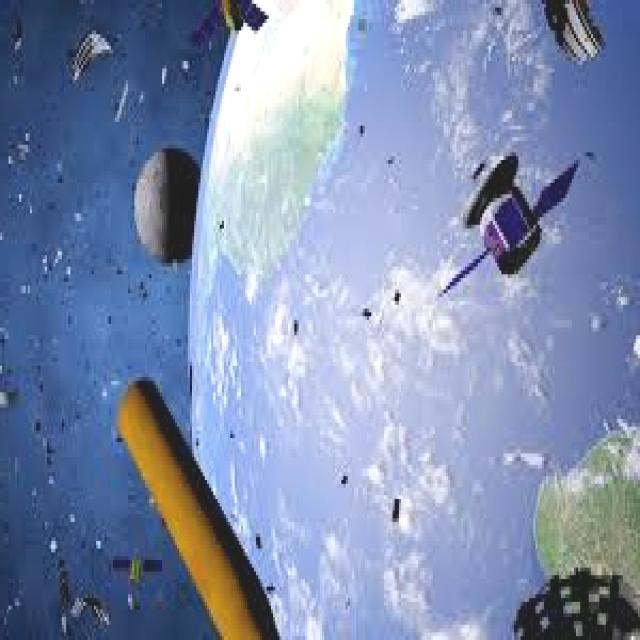large_debris: (88, 345, 294, 632), (120, 126, 218, 295)
satellite: (436, 129, 587, 309)
